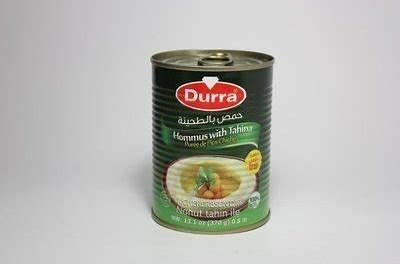metal: (153, 50, 274, 234)
